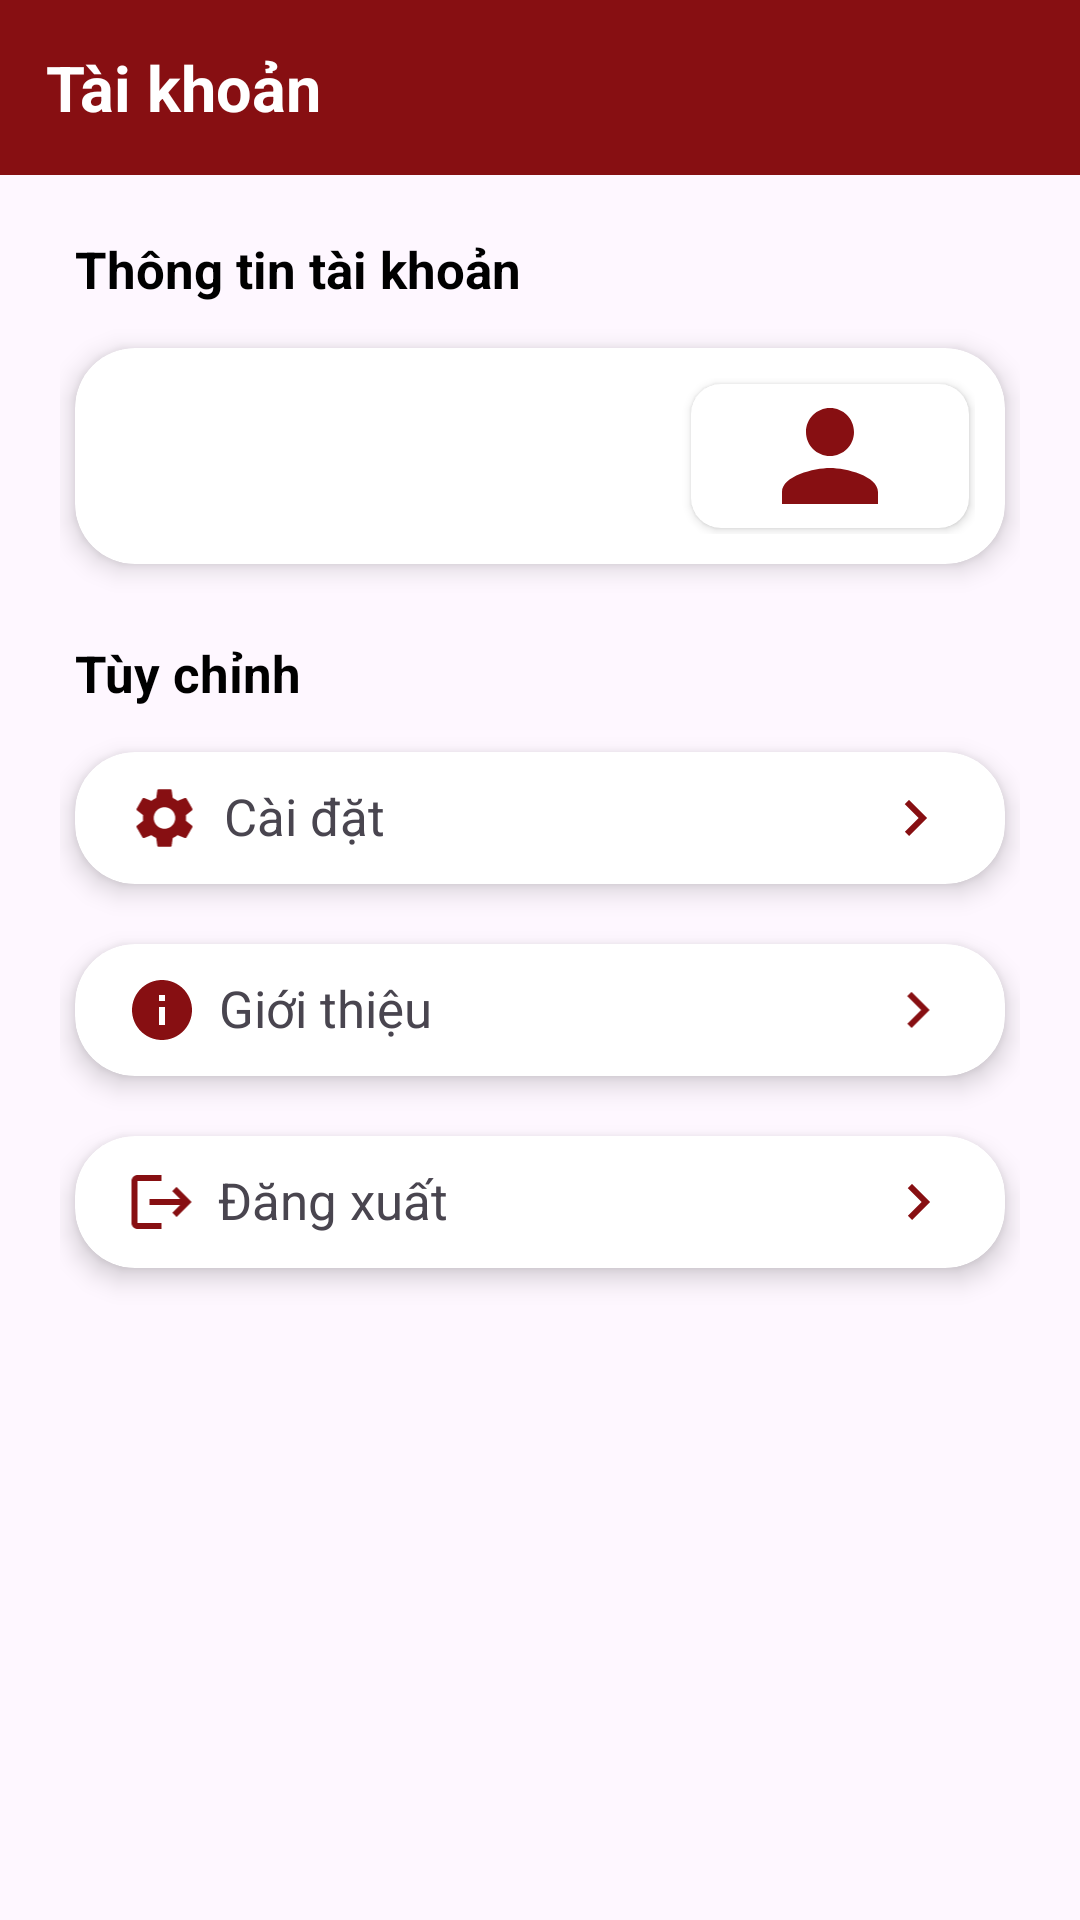

Named icons in this screenshot (1080px×1920px) and their centers, point (x, y):
arrow right: point (916, 818), point (918, 1010), point (919, 1202)
info: point (162, 1010)
profile: point (830, 456)
settings: point (164, 818)
